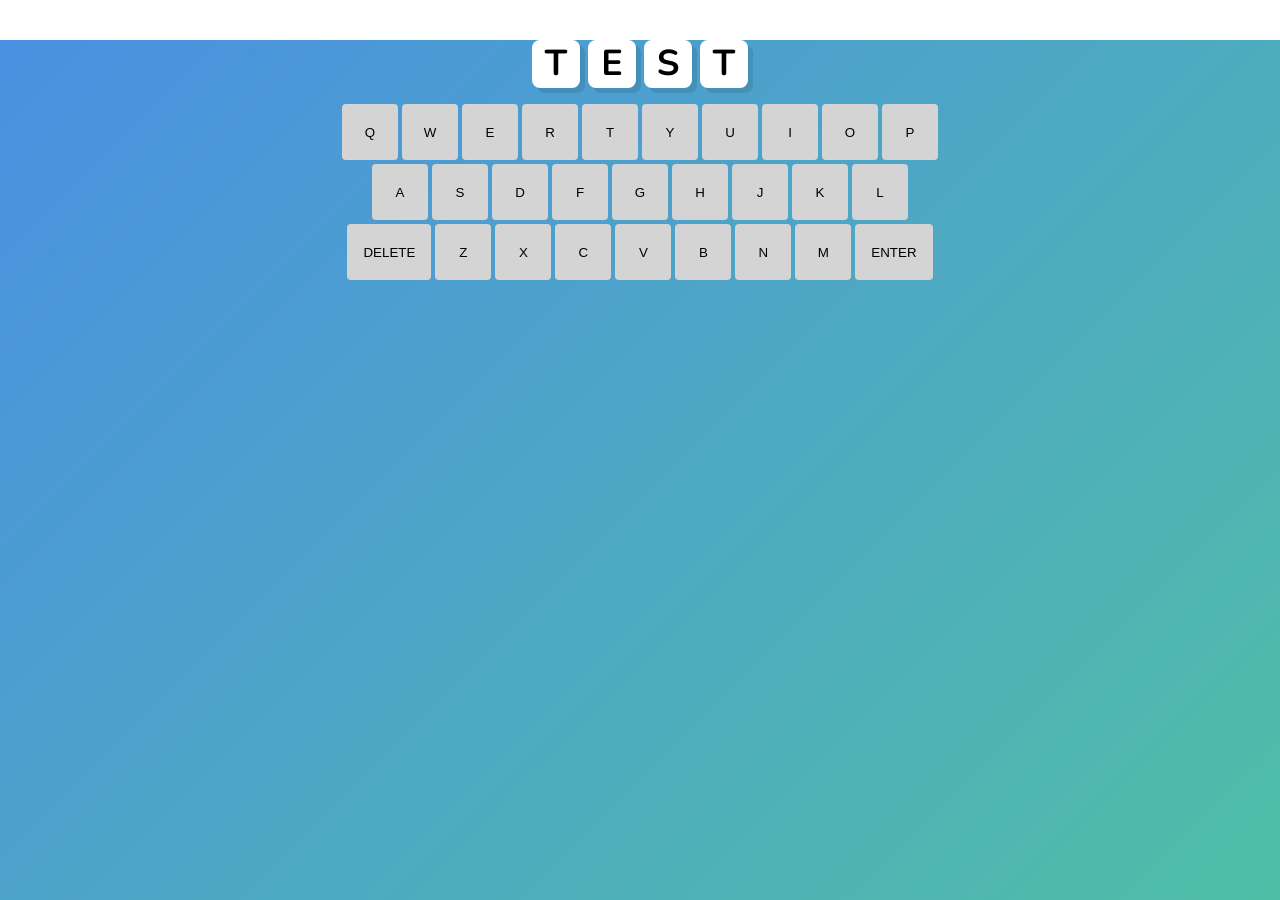
Scenario: GuessGame component › congrat modal › Should close the modal after clicking No in the congrat modal
The image size is (1280, 900).
Click the button "ENTER" at {"x": 894, "y": 252}, box x1=855 y1=224 x2=932 y2=280
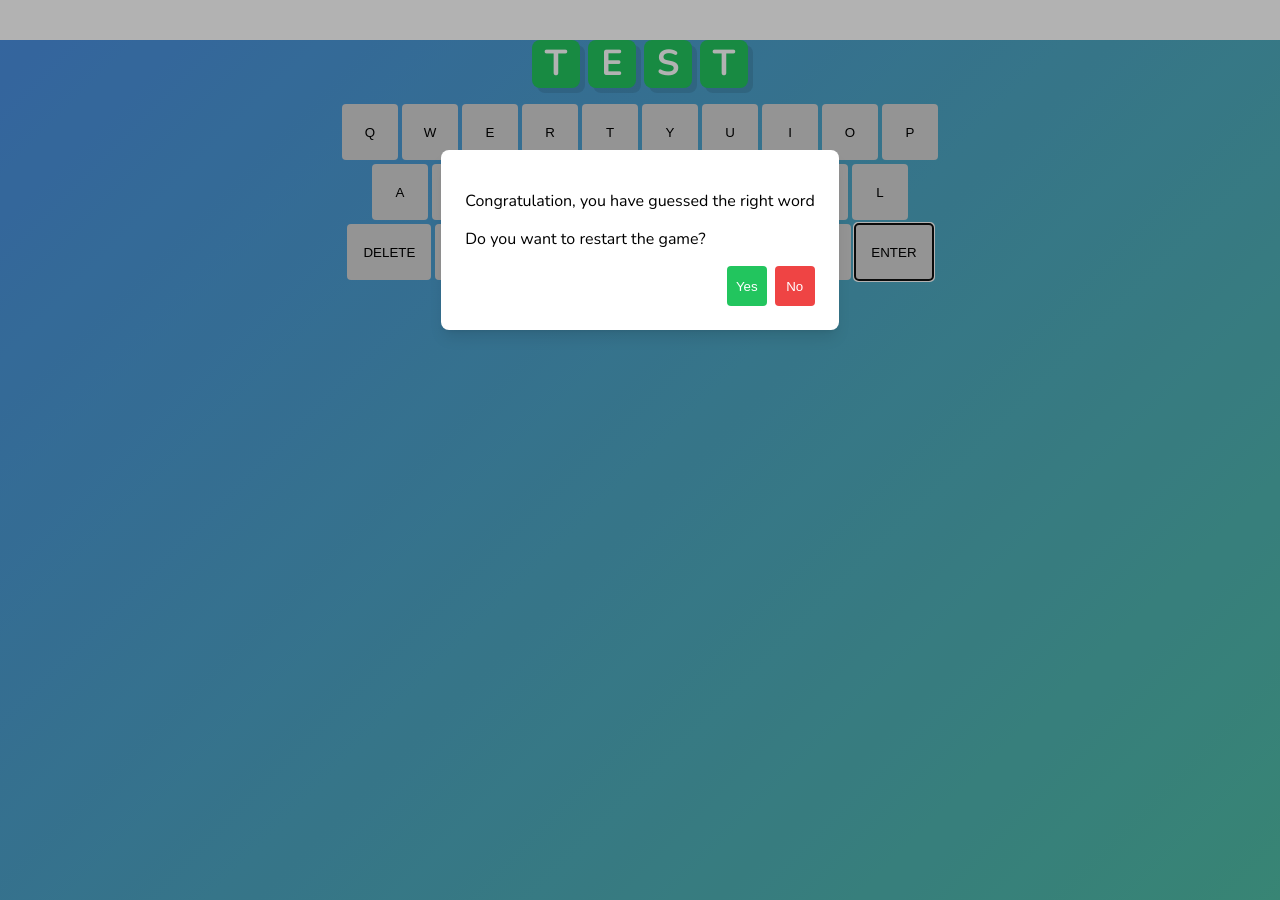
Click the button "No" at {"x": 795, "y": 286}, box x1=775 y1=266 x2=815 y2=306
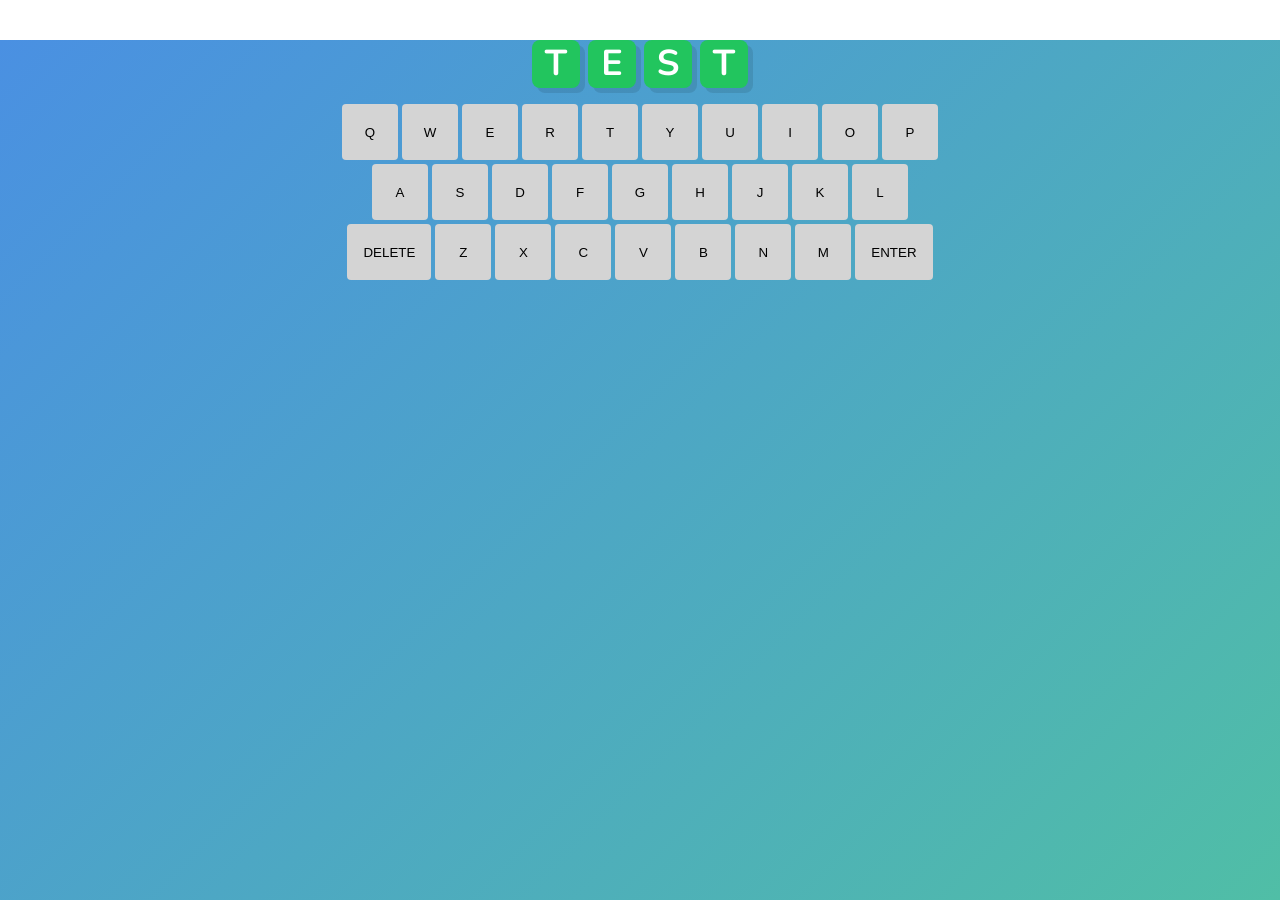
Check: the text "Congratulation, you have guessed the right word" is gone
